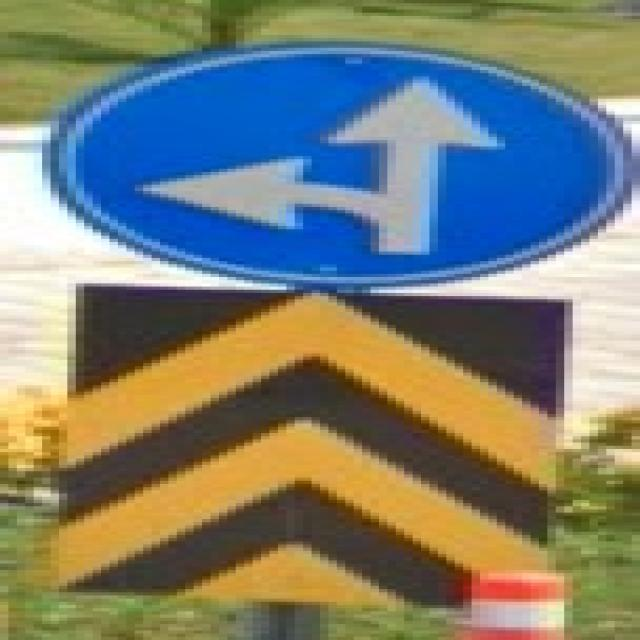Straight or Left: (43, 46, 640, 291)
